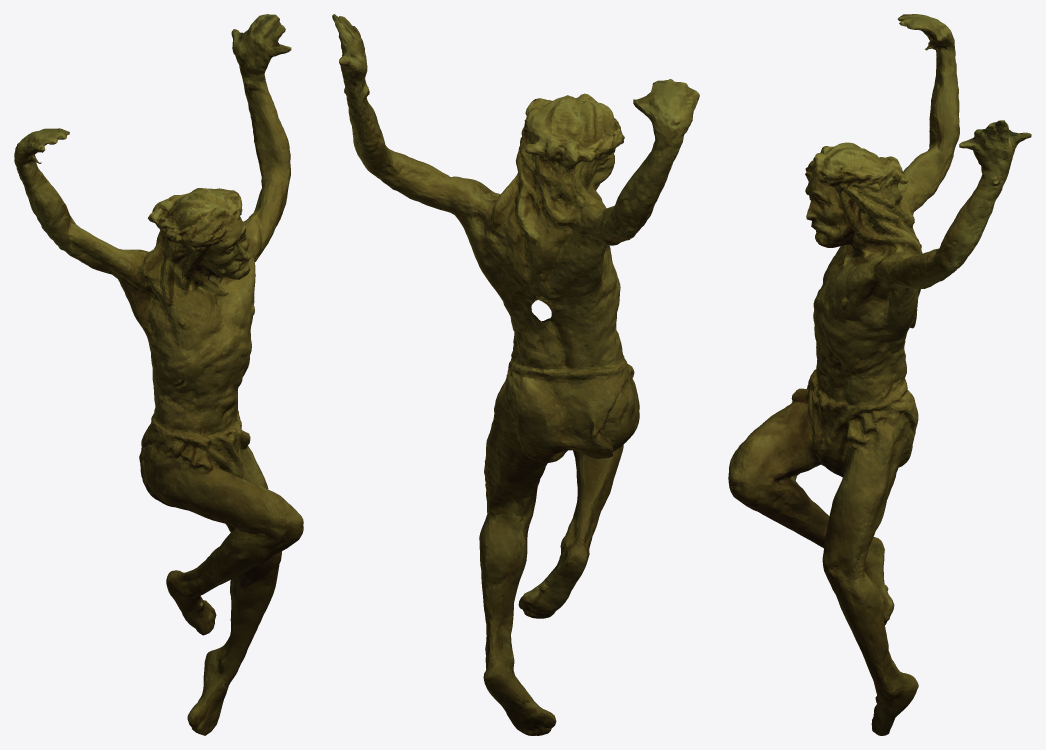
The model's file is WLC - Mighty Victim crucifix-edited (1)-edited.glb.
3 renders of one model, left to right at view 1: azimuth 30°, elevation 25°; view 2: azimuth 150°, elevation 25°; view 3: azimuth 270°, elevation 25°, orthographic. The views are drawn at different scales.
Visible parts, largest first — view 1: mesh_0; view 2: mesh_0; view 3: mesh_0.
Part boxes in pixels (left/top/right/bottom): mesh_0: left=14, top=14, right=303, bottom=735; mesh_0: left=332, top=14, right=699, bottom=735; mesh_0: left=728, top=14, right=1031, bottom=735.
Size of the model in its own units: 0.8741 by 1.87 by 0.7634.
Materials: 1 (1 with a texture image).
